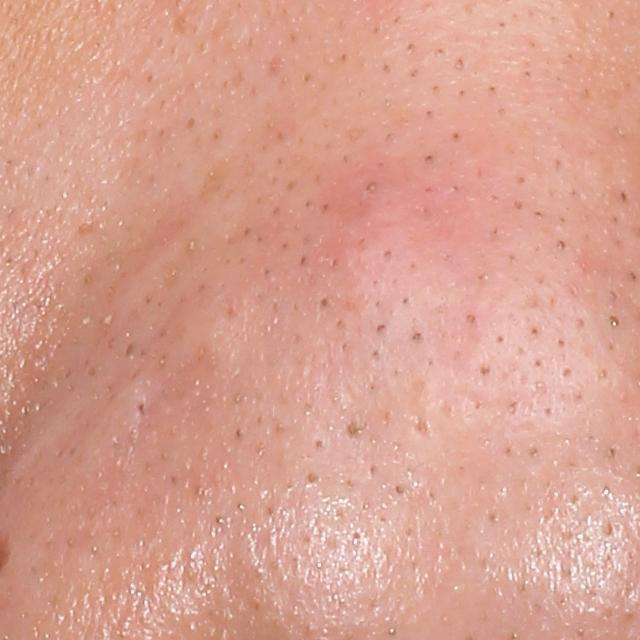comedo: (604, 312, 624, 334), (361, 177, 382, 196), (314, 292, 335, 311)
hypertrophic_scar: (102, 276, 265, 434), (321, 189, 477, 335)
